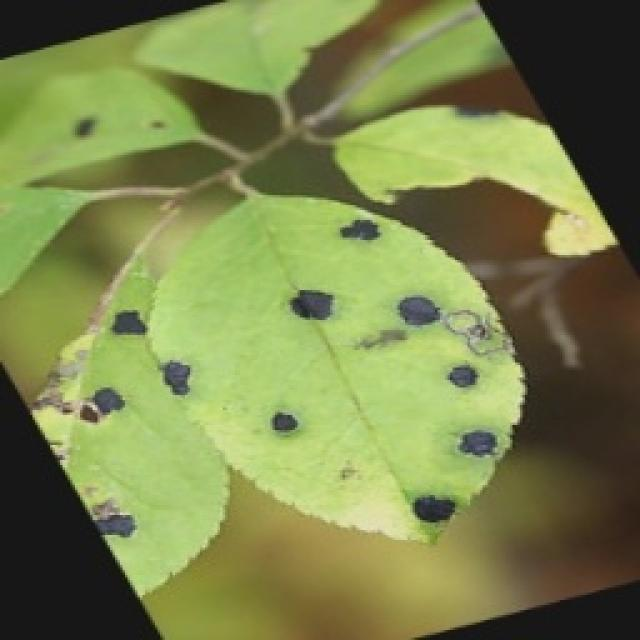Tar_Spot: (48, 234, 542, 558)
